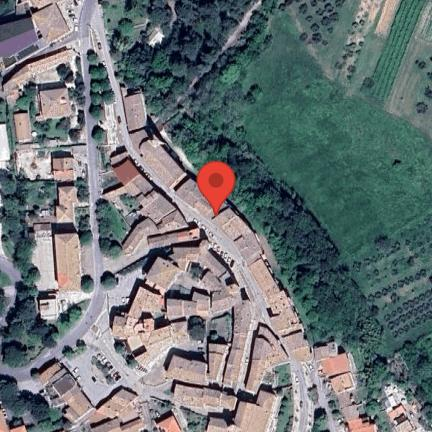area_open: (60, 254, 176, 432), (2, 51, 80, 109), (12, 142, 89, 182), (57, 241, 94, 317), (26, 223, 59, 296), (102, 237, 151, 280), (106, 102, 128, 159), (55, 0, 85, 33)
built: (124, 94, 310, 363), (110, 151, 200, 255), (127, 240, 243, 320), (0, 3, 71, 70), (111, 316, 191, 372), (208, 300, 255, 387), (39, 361, 97, 426), (245, 326, 290, 394), (208, 391, 282, 432), (87, 388, 142, 432), (313, 341, 356, 394), (173, 385, 238, 411), (54, 233, 80, 292), (165, 354, 209, 386), (35, 87, 73, 122), (165, 291, 209, 321), (54, 186, 79, 223), (388, 406, 414, 432), (14, 112, 33, 143), (53, 158, 75, 182), (156, 416, 182, 432), (39, 298, 57, 320), (349, 418, 375, 432)
vegetation_high: (169, 0, 394, 432), (101, 0, 254, 114), (1, 168, 85, 364), (13, 57, 87, 144), (389, 328, 432, 432), (0, 376, 66, 432), (51, 182, 92, 245), (91, 51, 113, 144), (95, 199, 124, 258), (310, 388, 330, 432), (187, 317, 206, 341)
vegetation_low: (240, 0, 432, 357), (240, 213, 359, 357), (99, 145, 146, 245), (259, 364, 296, 432), (15, 181, 58, 224), (336, 384, 373, 421), (181, 409, 208, 432)
